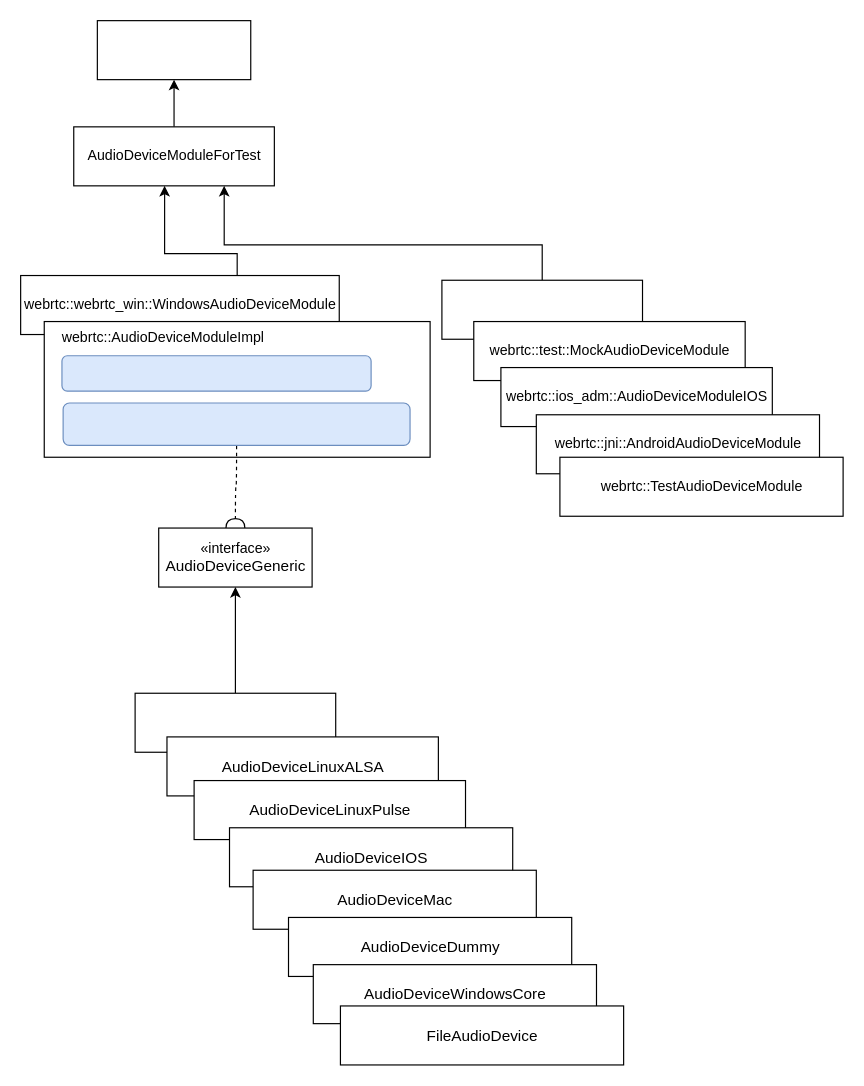
This 864x1086 diagram has some shape labels left out. Each missing label, with the centre of its shape:
"AudioDeviceBuffer audio_device_buffer_;" goes at (216,373).
"AudioDeviceTemplate" goes at (235,722).
"std::unique_ptr<AudioDeviceGeneric> audio_device_;" goes at (236,423).
"webrtc::ADMWrapper" goes at (542,309).
"«interface» AudioDeviceModule" goes at (173,49).
